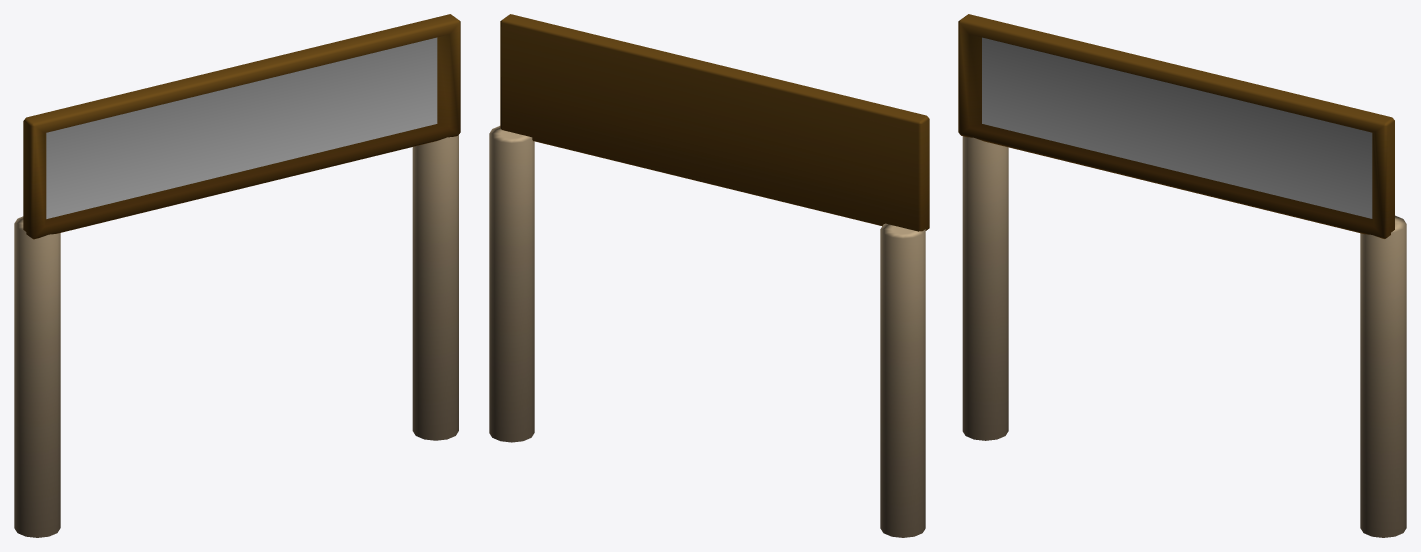
Rendered from finish_board.fbx.
3 renders of one model, left to right at view 1: azimuth 30°, elevation 25°; view 2: azimuth 150°, elevation 25°; view 3: azimuth 330°, elevation 25°, orthographic.
Visible parts, largest first — view 1: finishboard; view 2: finishboard; view 3: finishboard.
Part boxes in pixels (x1,y1,x2,y2): finishboard: (14, 14, 460, 537); finishboard: (489, 14, 929, 537); finishboard: (958, 14, 1406, 537).
Size of the model in its own units: 32.04 by 29.08 by 2.95.
Materials: 2 (1 with a texture image).
